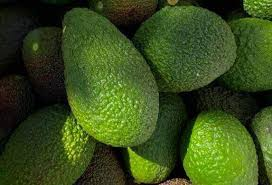aguacate: (56, 12, 160, 152), (133, 9, 241, 96), (178, 109, 264, 185)
